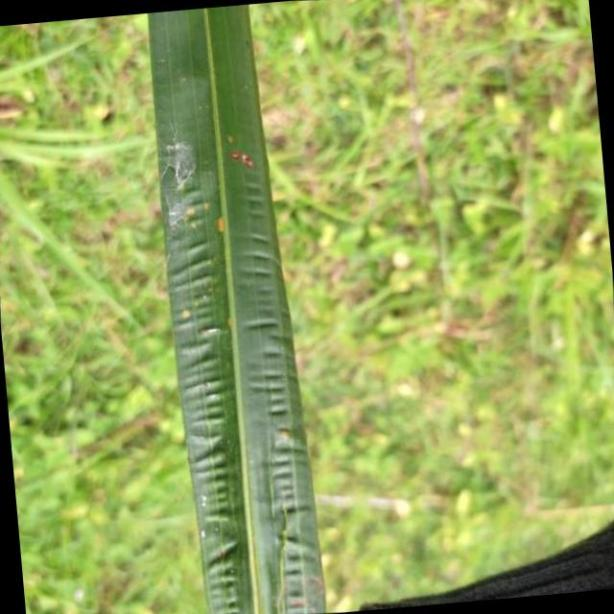Boron: (145, 0, 328, 614)
